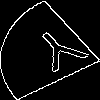Y: (25, 24, 98, 81)
